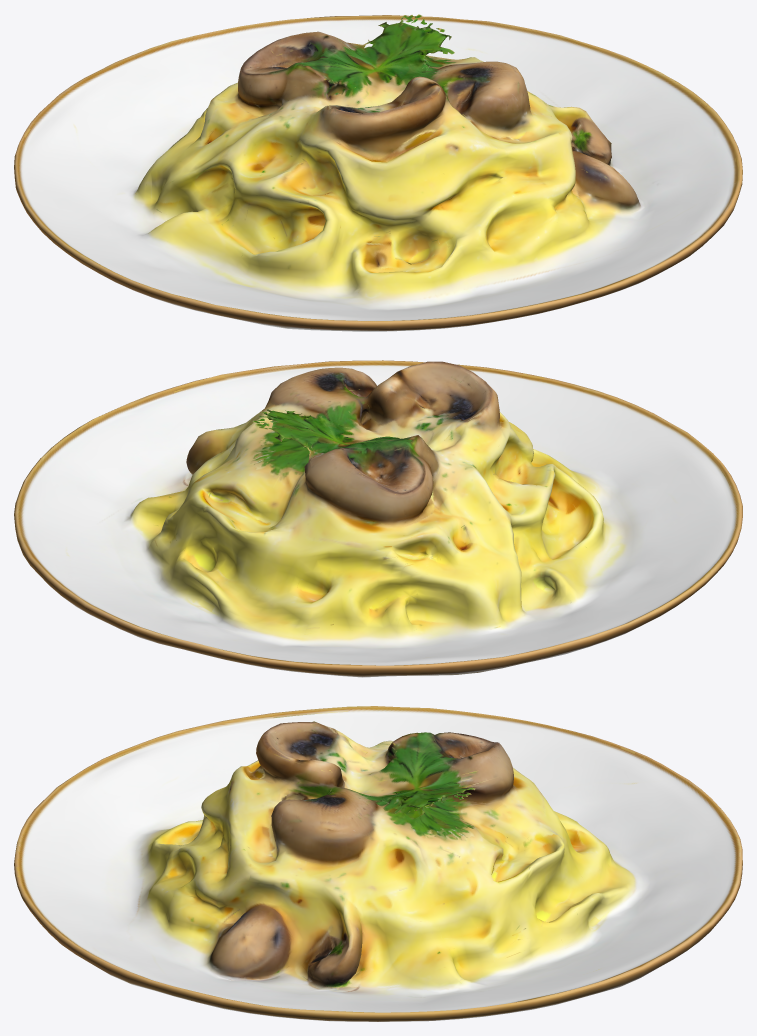
The model's file is Pasta_0515153034_texture.fbx.
The picture shows the model from 3 angles, top to bottom: view 1: azimuth 30°, elevation 25°; view 2: azimuth 150°, elevation 25°; view 3: azimuth 270°, elevation 25°; orthographic projection.
Visible parts, largest first — view 1: Mesh1; view 2: Mesh1; view 3: Mesh1.
Boxes of the visible parts, x1,y1,x2,y2 form: Mesh1: (14,14,742,331); Mesh1: (14,360,742,677); Mesh1: (14,706,742,1021).
Bounding box in the file's own units: 200 × 46.82 × 200.
1 material, 1 textured.
